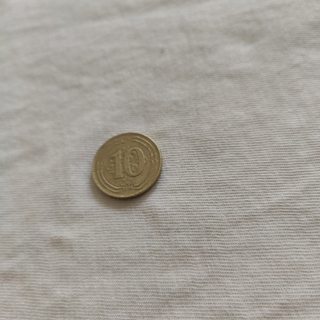10KURUS: (89, 130, 164, 201)
